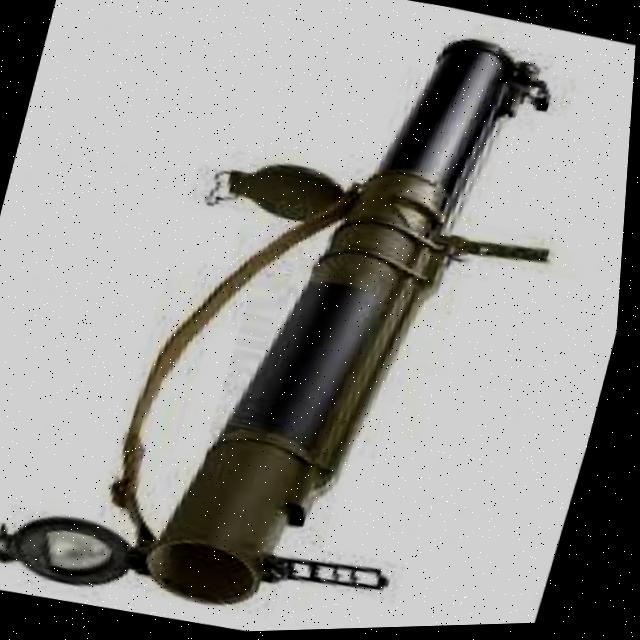rocket: (0, 0, 588, 639)
